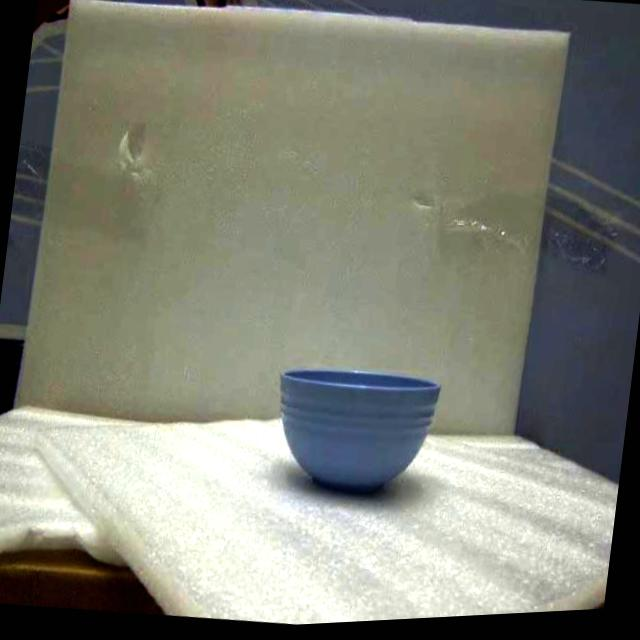Bowl: (281, 370, 440, 493)
